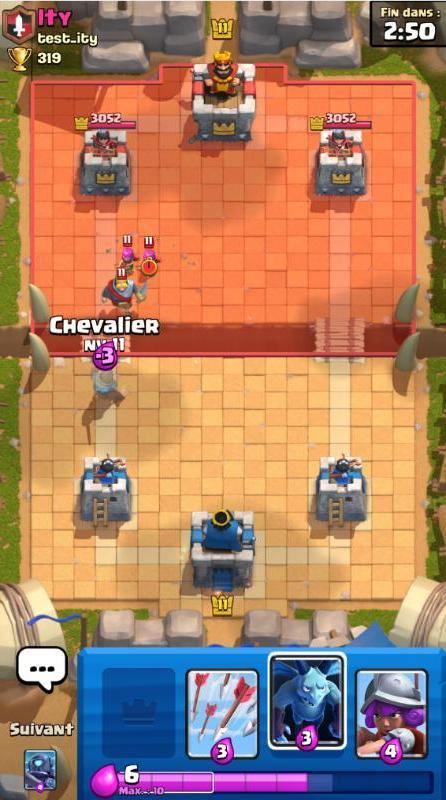enemy_archers: (139, 237, 163, 272), (117, 236, 139, 272)
enemy_knight: (94, 267, 153, 314)
